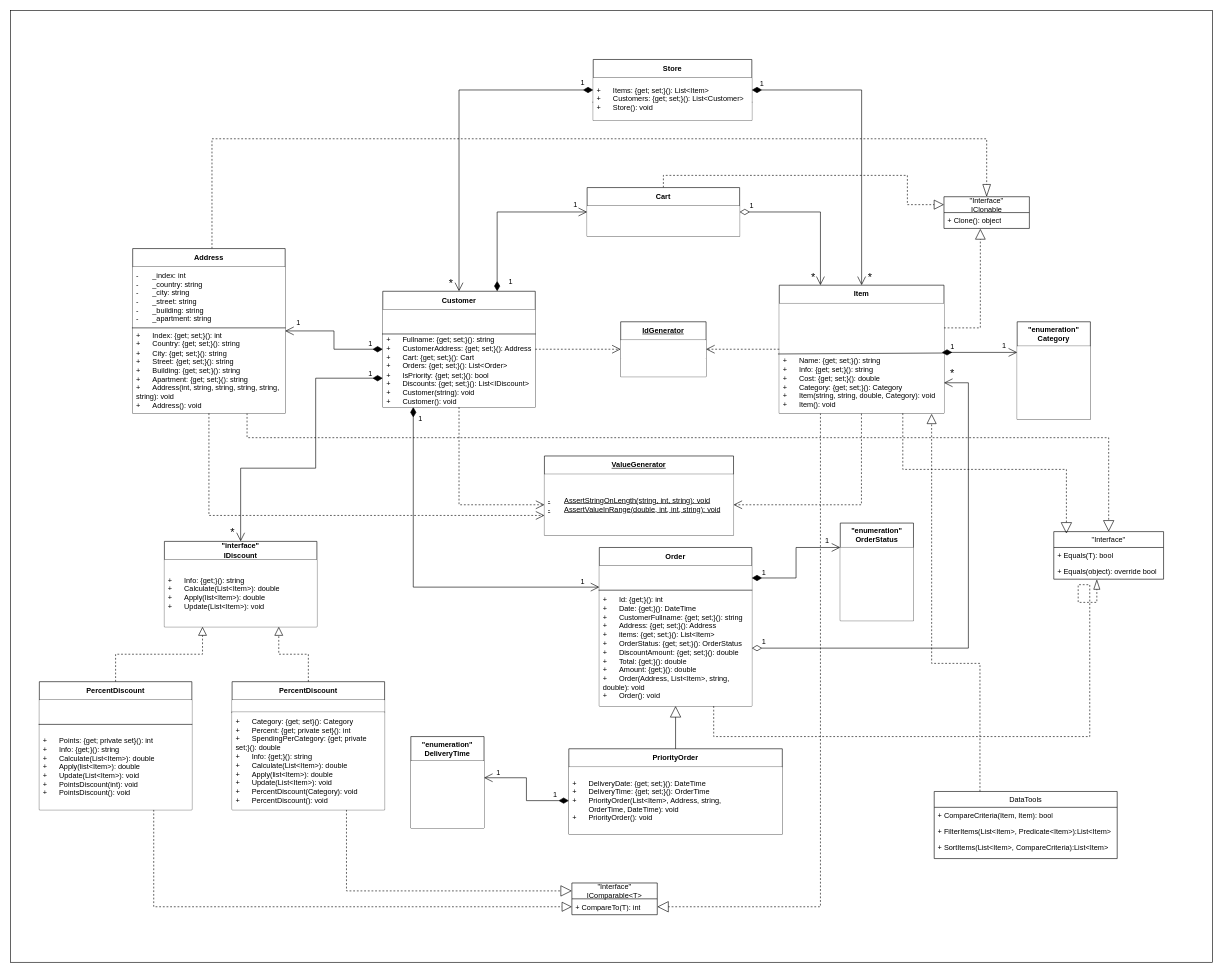
This 1223x973 diagram has some shape labels left out. The shapes that lost their labels are listed below. From the top down, each one's centre as x and y in pixels, then its label:
(663,221): + Items: {get; set;}(): List<Item> + Amount: {get;}(): double + Cart(): void
(458,321): - _id: readonly int - _fullname: string
(861,327): - _id: readonly int - _name: string - _info: string - _cost: double
(663,349): - _nextId: int
(663,367): - GetNextId(): int
(1053,382): Medicine Clothing Products Technique Chancellery Books Groceries
(675,577): - _id: int - _data: DateTime
(876,583): New Processing Assembly Sent Delivered Returned Abandoned
(115,712): - _points: int - _maxDiscountPercentage: const int
(308,706): - _percent: int
(447,794): f9t11 f11t13 f13t15 f15t17 f17t19 f19t21
